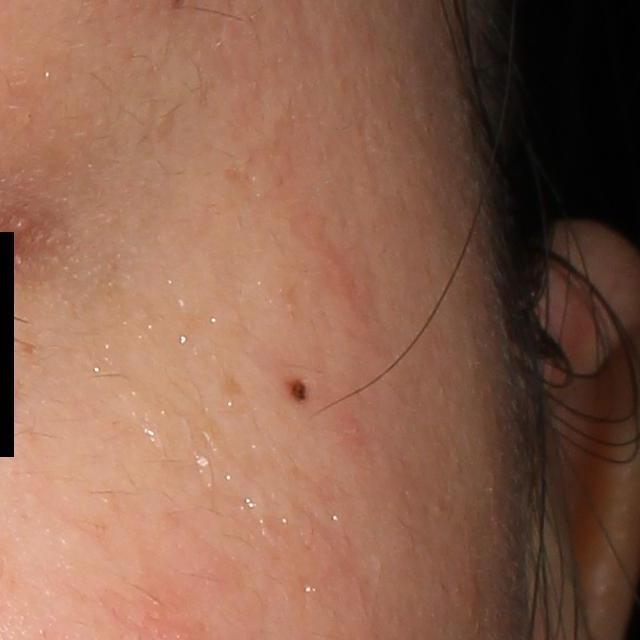nevus: (286, 377, 309, 405)
